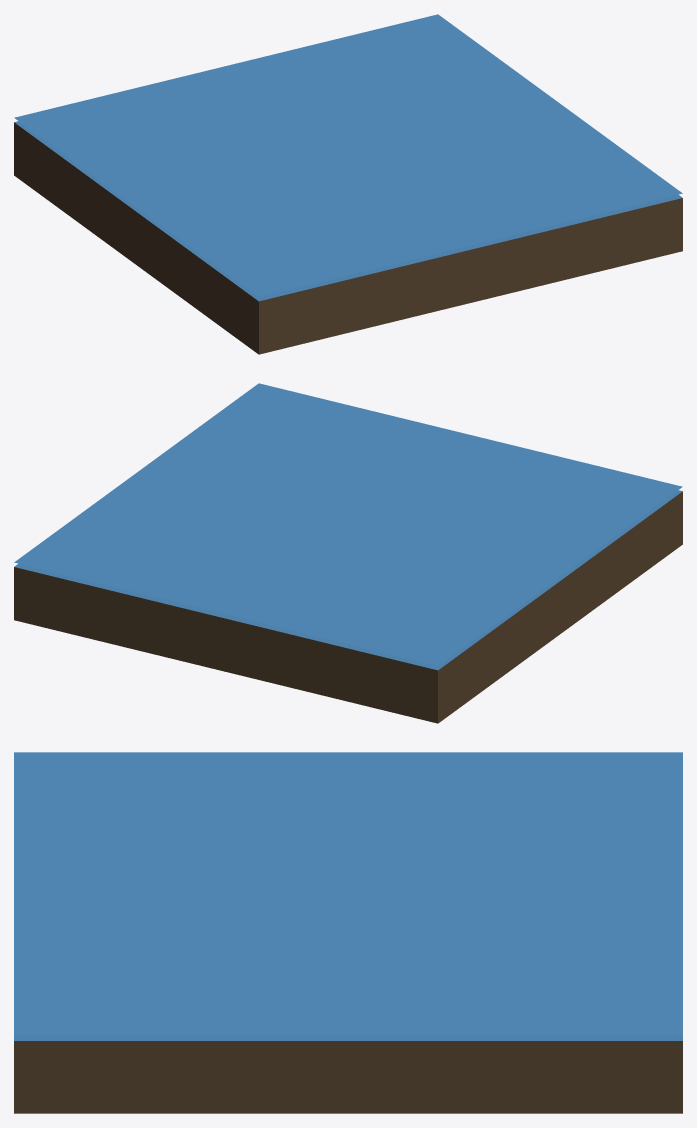
Rendered from water_01.glb.
3 views of the same model, one above another, from view 1: azimuth 30°, elevation 25°; view 2: azimuth 150°, elevation 25°; view 3: azimuth 270°, elevation 25° (orthographic). The views are drawn at different scales.
Visible parts, largest first — view 1: Grid; view 2: Grid; view 3: Grid.
Part boxes in pixels (bbox=[...]): Grid: bbox=[14, 14, 682, 354]; Grid: bbox=[14, 383, 682, 723]; Grid: bbox=[14, 752, 682, 1113].
Bounding box in the file's own units: 1 × 0.13 × 1.
